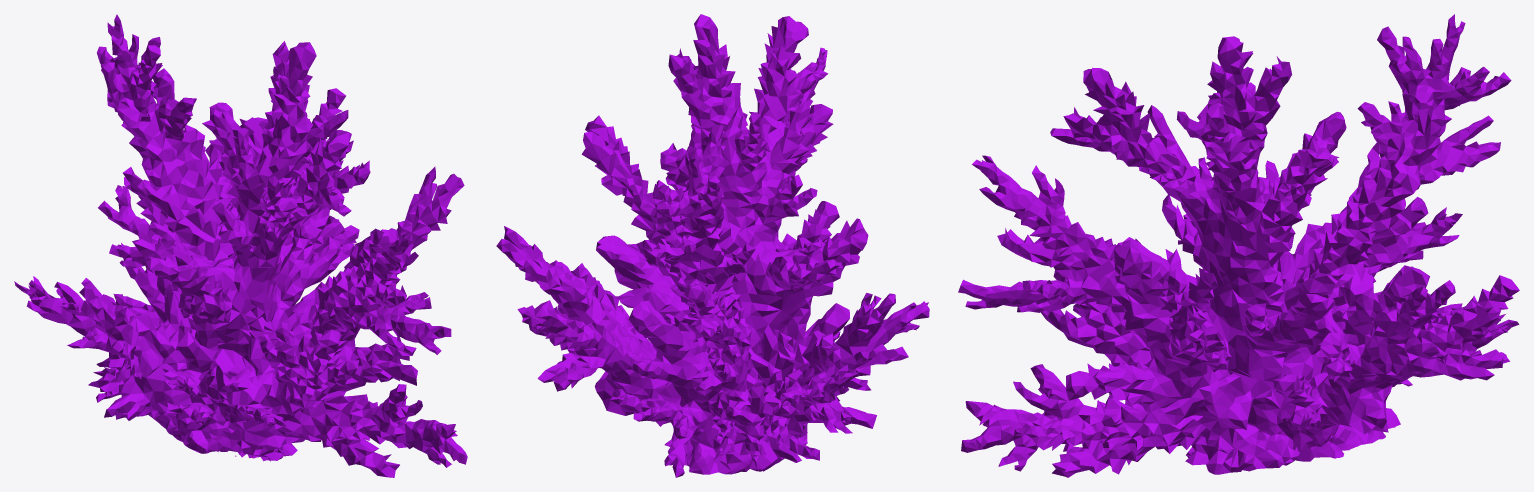
File: coral-2.glb
3 views of the same model, side by side, from view 1: azimuth 30°, elevation 25°; view 2: azimuth 150°, elevation 25°; view 3: azimuth 270°, elevation 25° (orthographic). The views are drawn at different scales.
Visible parts, largest first — view 1: coral-2; view 2: coral-2; view 3: coral-2.
Boxes of the visible parts, x1,y1,x2,y2 form: coral-2: [14, 14, 467, 477]; coral-2: [496, 14, 929, 477]; coral-2: [958, 14, 1519, 477].
Size of the model in its own units: 20.54 by 21.98 by 25.15.
